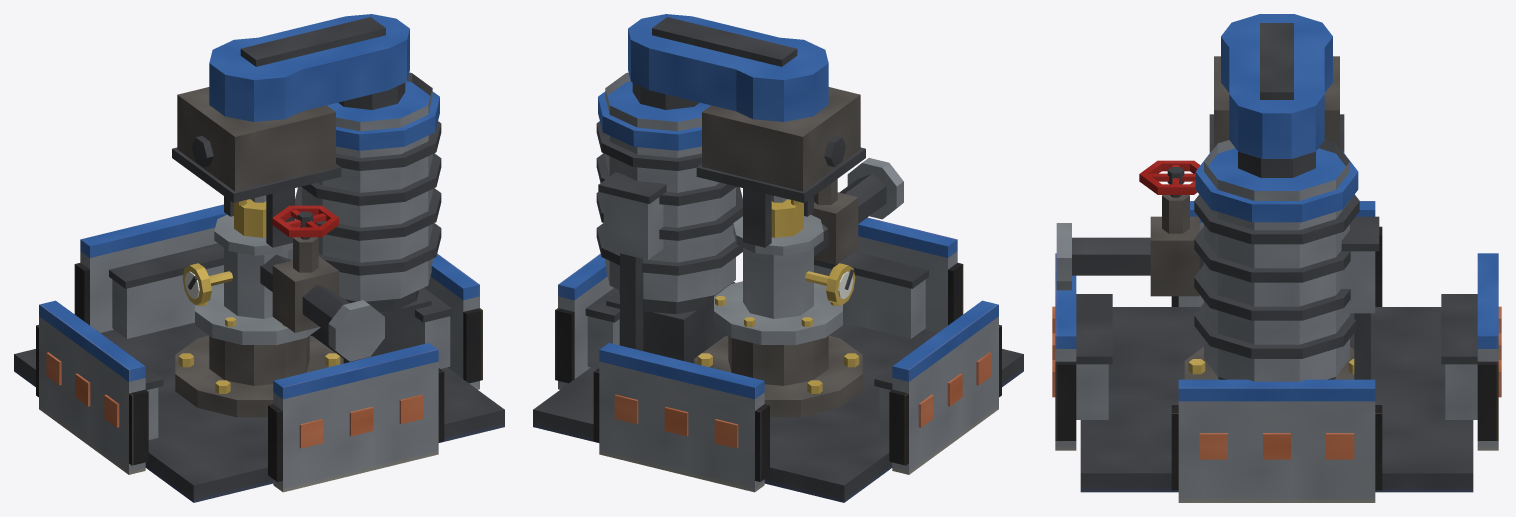
File: oilpump200v.obj
3 views of the same model, side by side, from view 1: azimuth 30°, elevation 25°; view 2: azimuth 150°, elevation 25°; view 3: azimuth 270°, elevation 25° (orthographic). The views are drawn at different scales.
Parts seen in each view (by area): view 1: main; view 2: main; view 3: main.
Boxes of the visible parts, x1,y1,x2,y2 form: main: [14, 14, 504, 502]; main: [533, 14, 1023, 502]; main: [1052, 14, 1501, 502].
Bounding box in the file's own units: 1 × 0.9344 × 1.
Materials: 1 (1 with a texture image).
